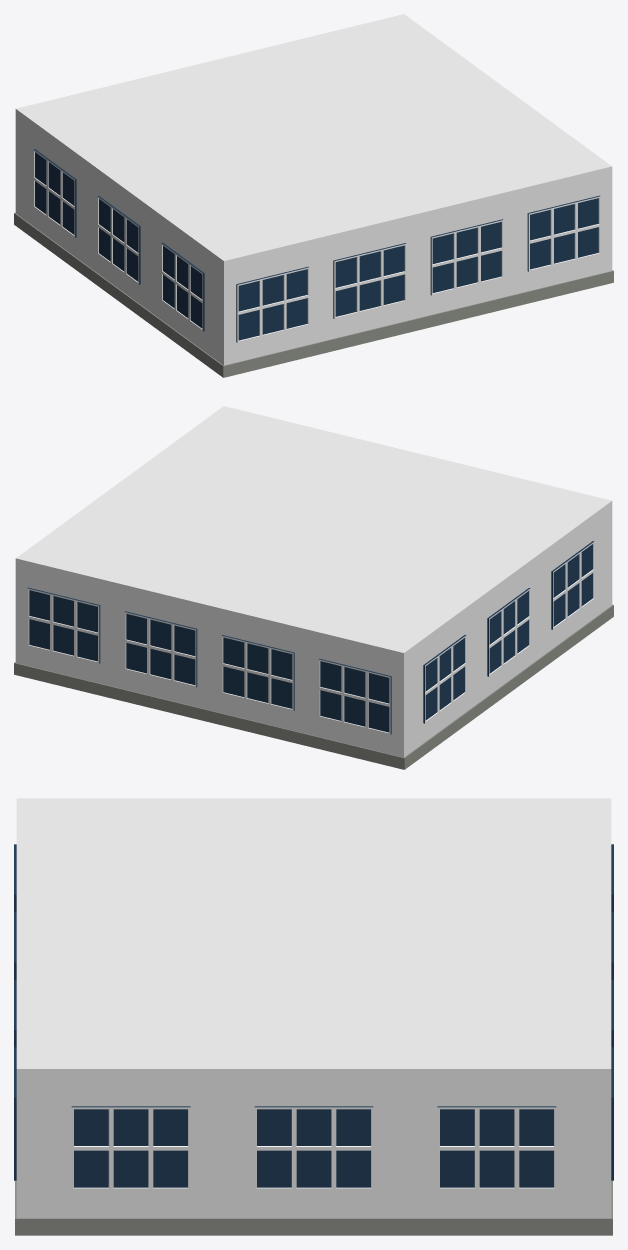
Rendered from mashup-main-mid-prebuilt_close.fbx.
The picture shows the model from 3 angles, top to bottom: view 1: azimuth 30°, elevation 25°; view 2: azimuth 150°, elevation 25°; view 3: azimuth 270°, elevation 25°; orthographic projection. The views are drawn at different scales.
Visible parts, largest first — view 1: a1052.MainMid.001; view 2: a1052.MainMid.001; view 3: a1052.MainMid.001.
Boxes of the visible parts, box(x1,y1,x2,y2) form: a1052.MainMid.001: box(14, 14, 613, 377); a1052.MainMid.001: box(14, 406, 613, 769); a1052.MainMid.001: box(14, 798, 613, 1235).
Bounding box in the file's own units: 14.12 × 4 × 13.12.
